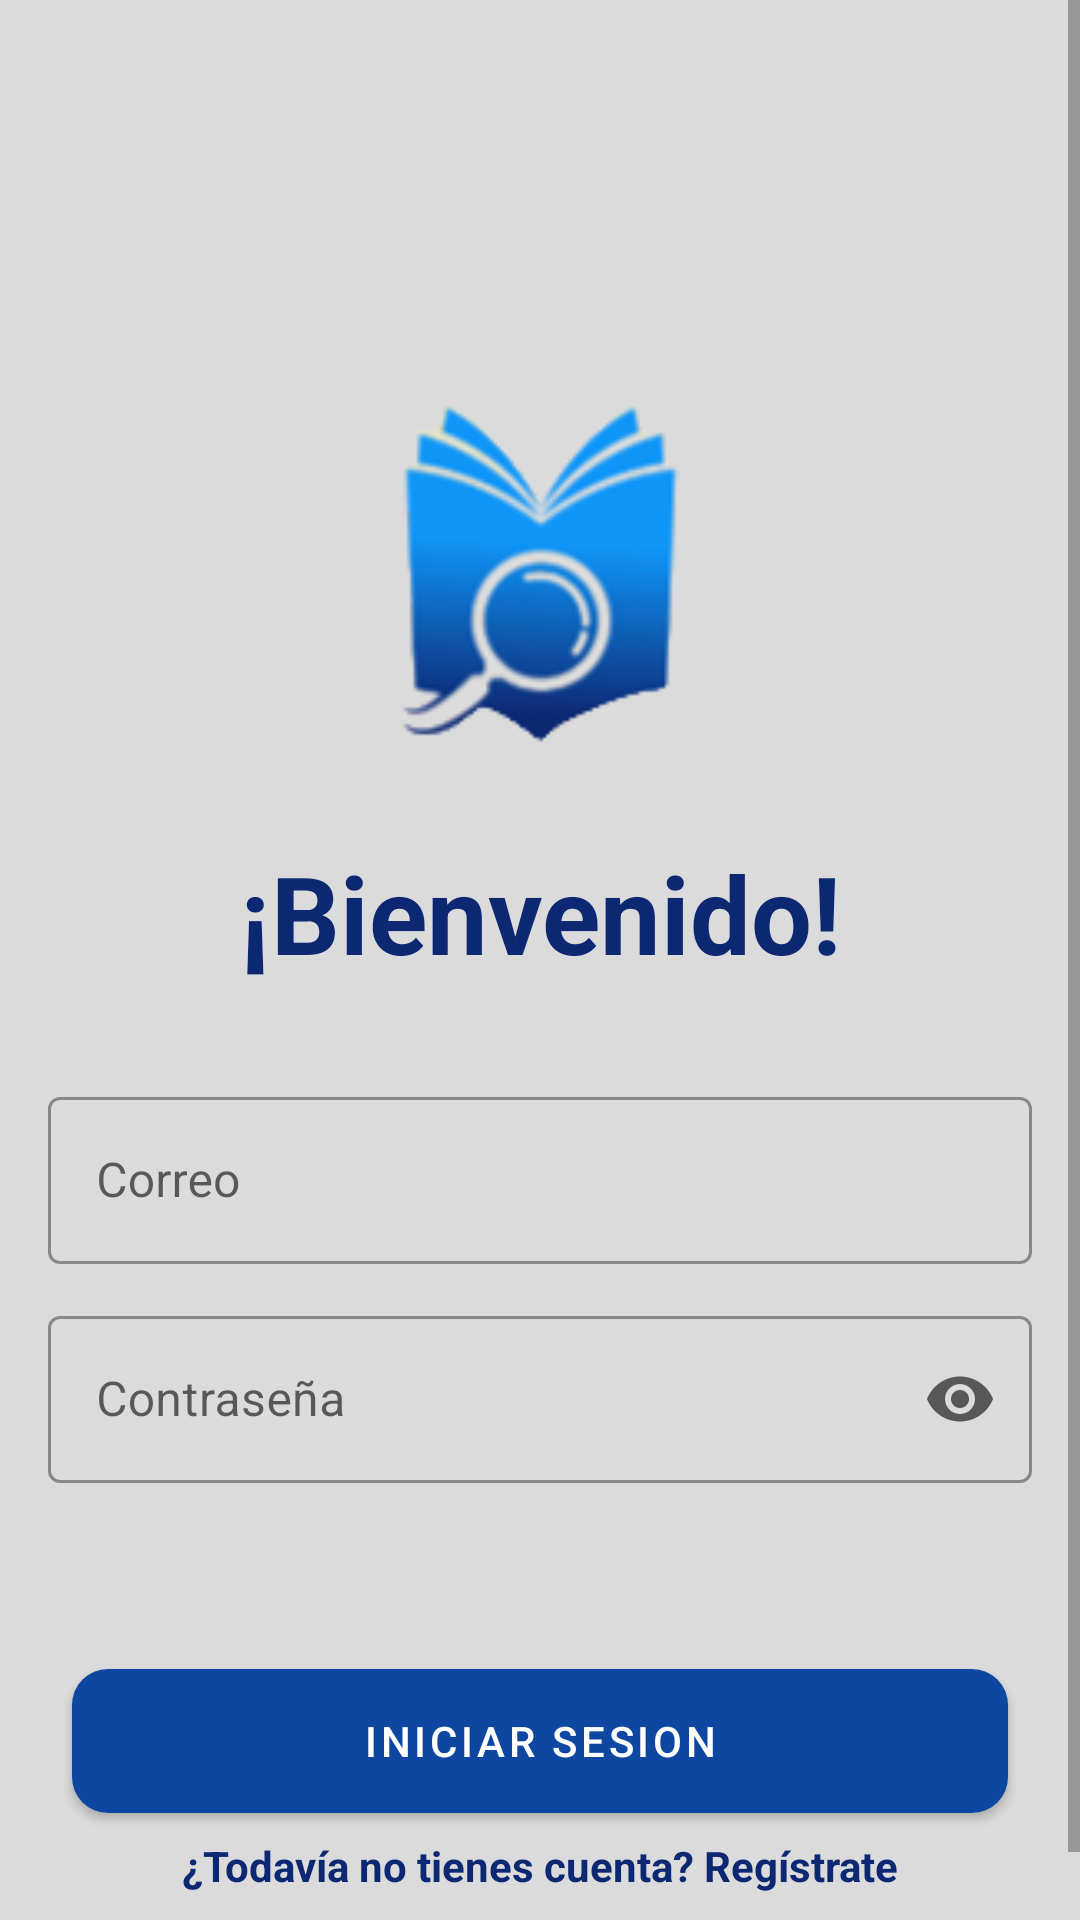

Icon bounding boxes for this 1080 x 1920 phone screenshot, format BBox(x1, y1, x2, y2):
book login: BBox(404, 407, 678, 742)
